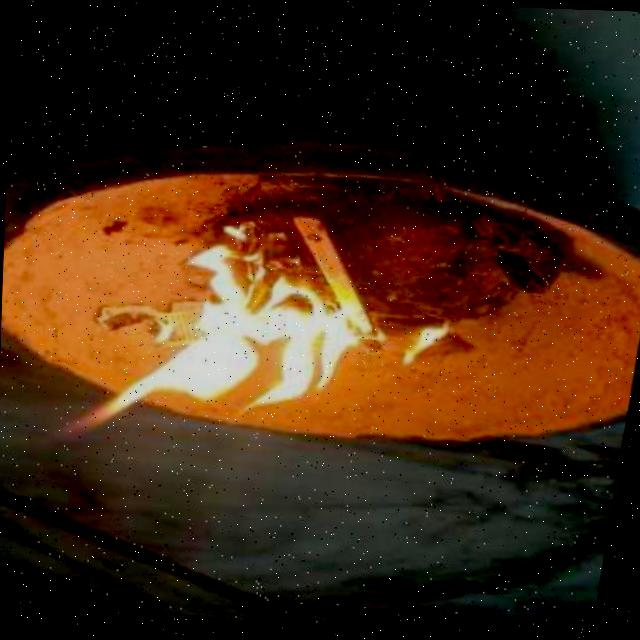fire: (71, 242, 372, 458)
